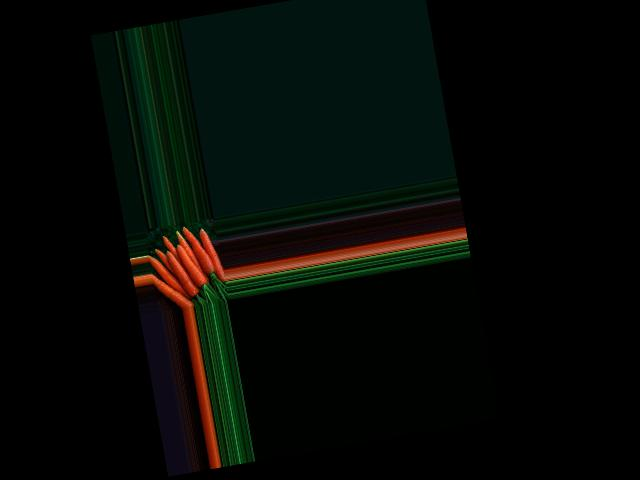carrot: (149, 260, 197, 311)
